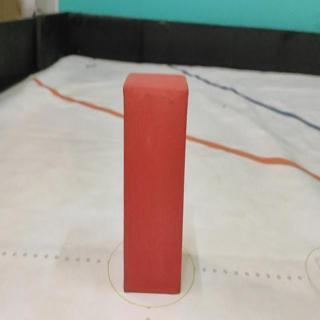redbox: (122, 71, 190, 295)
